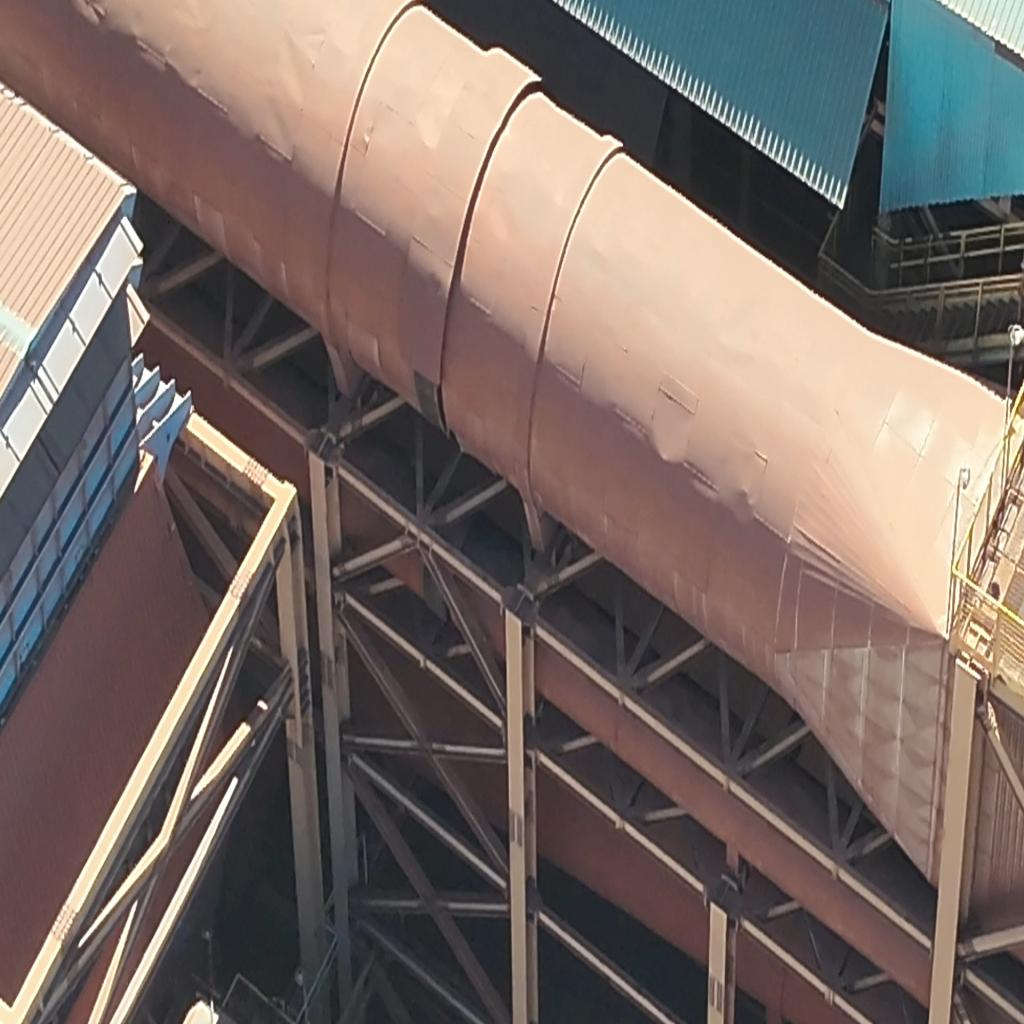Failures: (414, 370, 448, 429)
